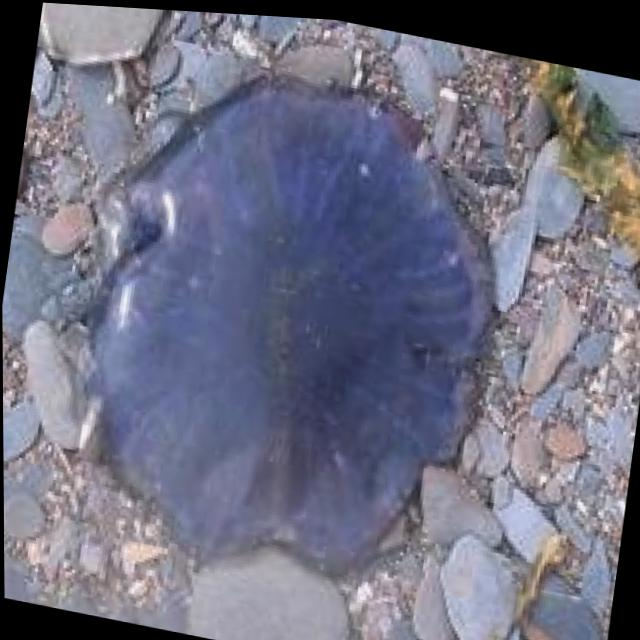Jellyfish: (45, 29, 529, 607)
